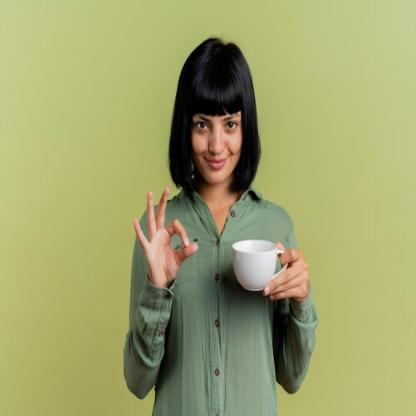ok: (132, 184, 199, 291)
